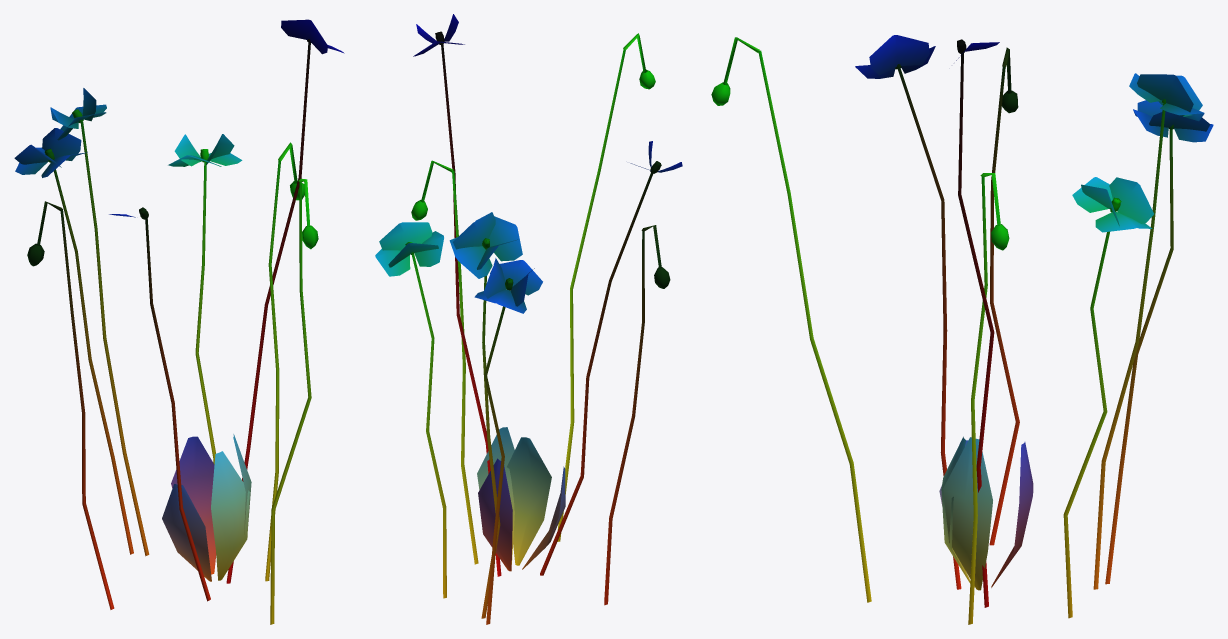
File: SM_Flower_Poppy_A_LOD2.fbx
3 renders of one model, left to right at view 1: azimuth 30°, elevation 25°; view 2: azimuth 150°, elevation 25°; view 3: azimuth 270°, elevation 25°, orthographic. The views are drawn at different scales.
Visible parts, largest first — view 1: SM_Flower_Poppy_A_LOD2; view 2: SM_Flower_Poppy_A_LOD2; view 3: SM_Flower_Poppy_A_LOD2.
Boxes of the visible parts, x1,y1,x2,y2 form: SM_Flower_Poppy_A_LOD2: (14,19,344,624); SM_Flower_Poppy_A_LOD2: (375,14,682,624); SM_Flower_Poppy_A_LOD2: (711,35,1213,624).
Size of the model in its own units: 0.3282 by 0.6048 by 0.4403.
